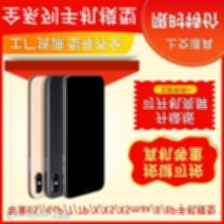phone: (58, 73, 107, 202), (42, 73, 81, 199), (26, 73, 61, 201)
